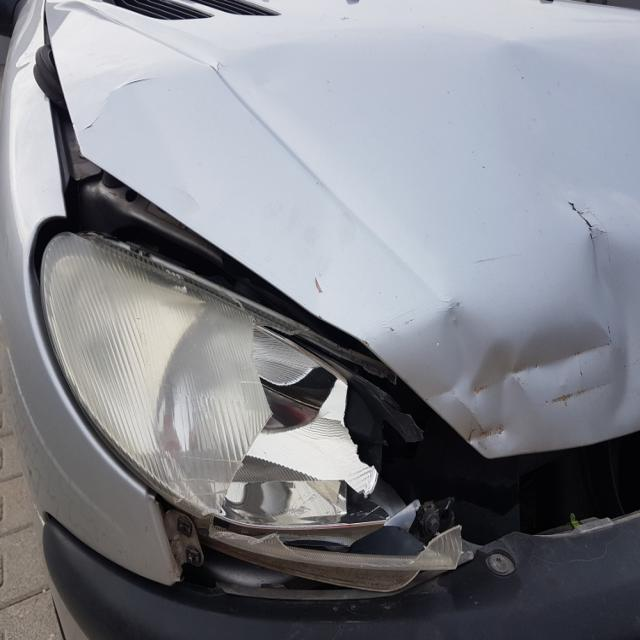dent: (75, 32, 640, 459)
lamp broken: (40, 229, 411, 544)
